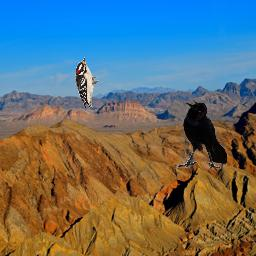Crow: (176, 100, 227, 169)
Woodpecker: (75, 57, 99, 108)
